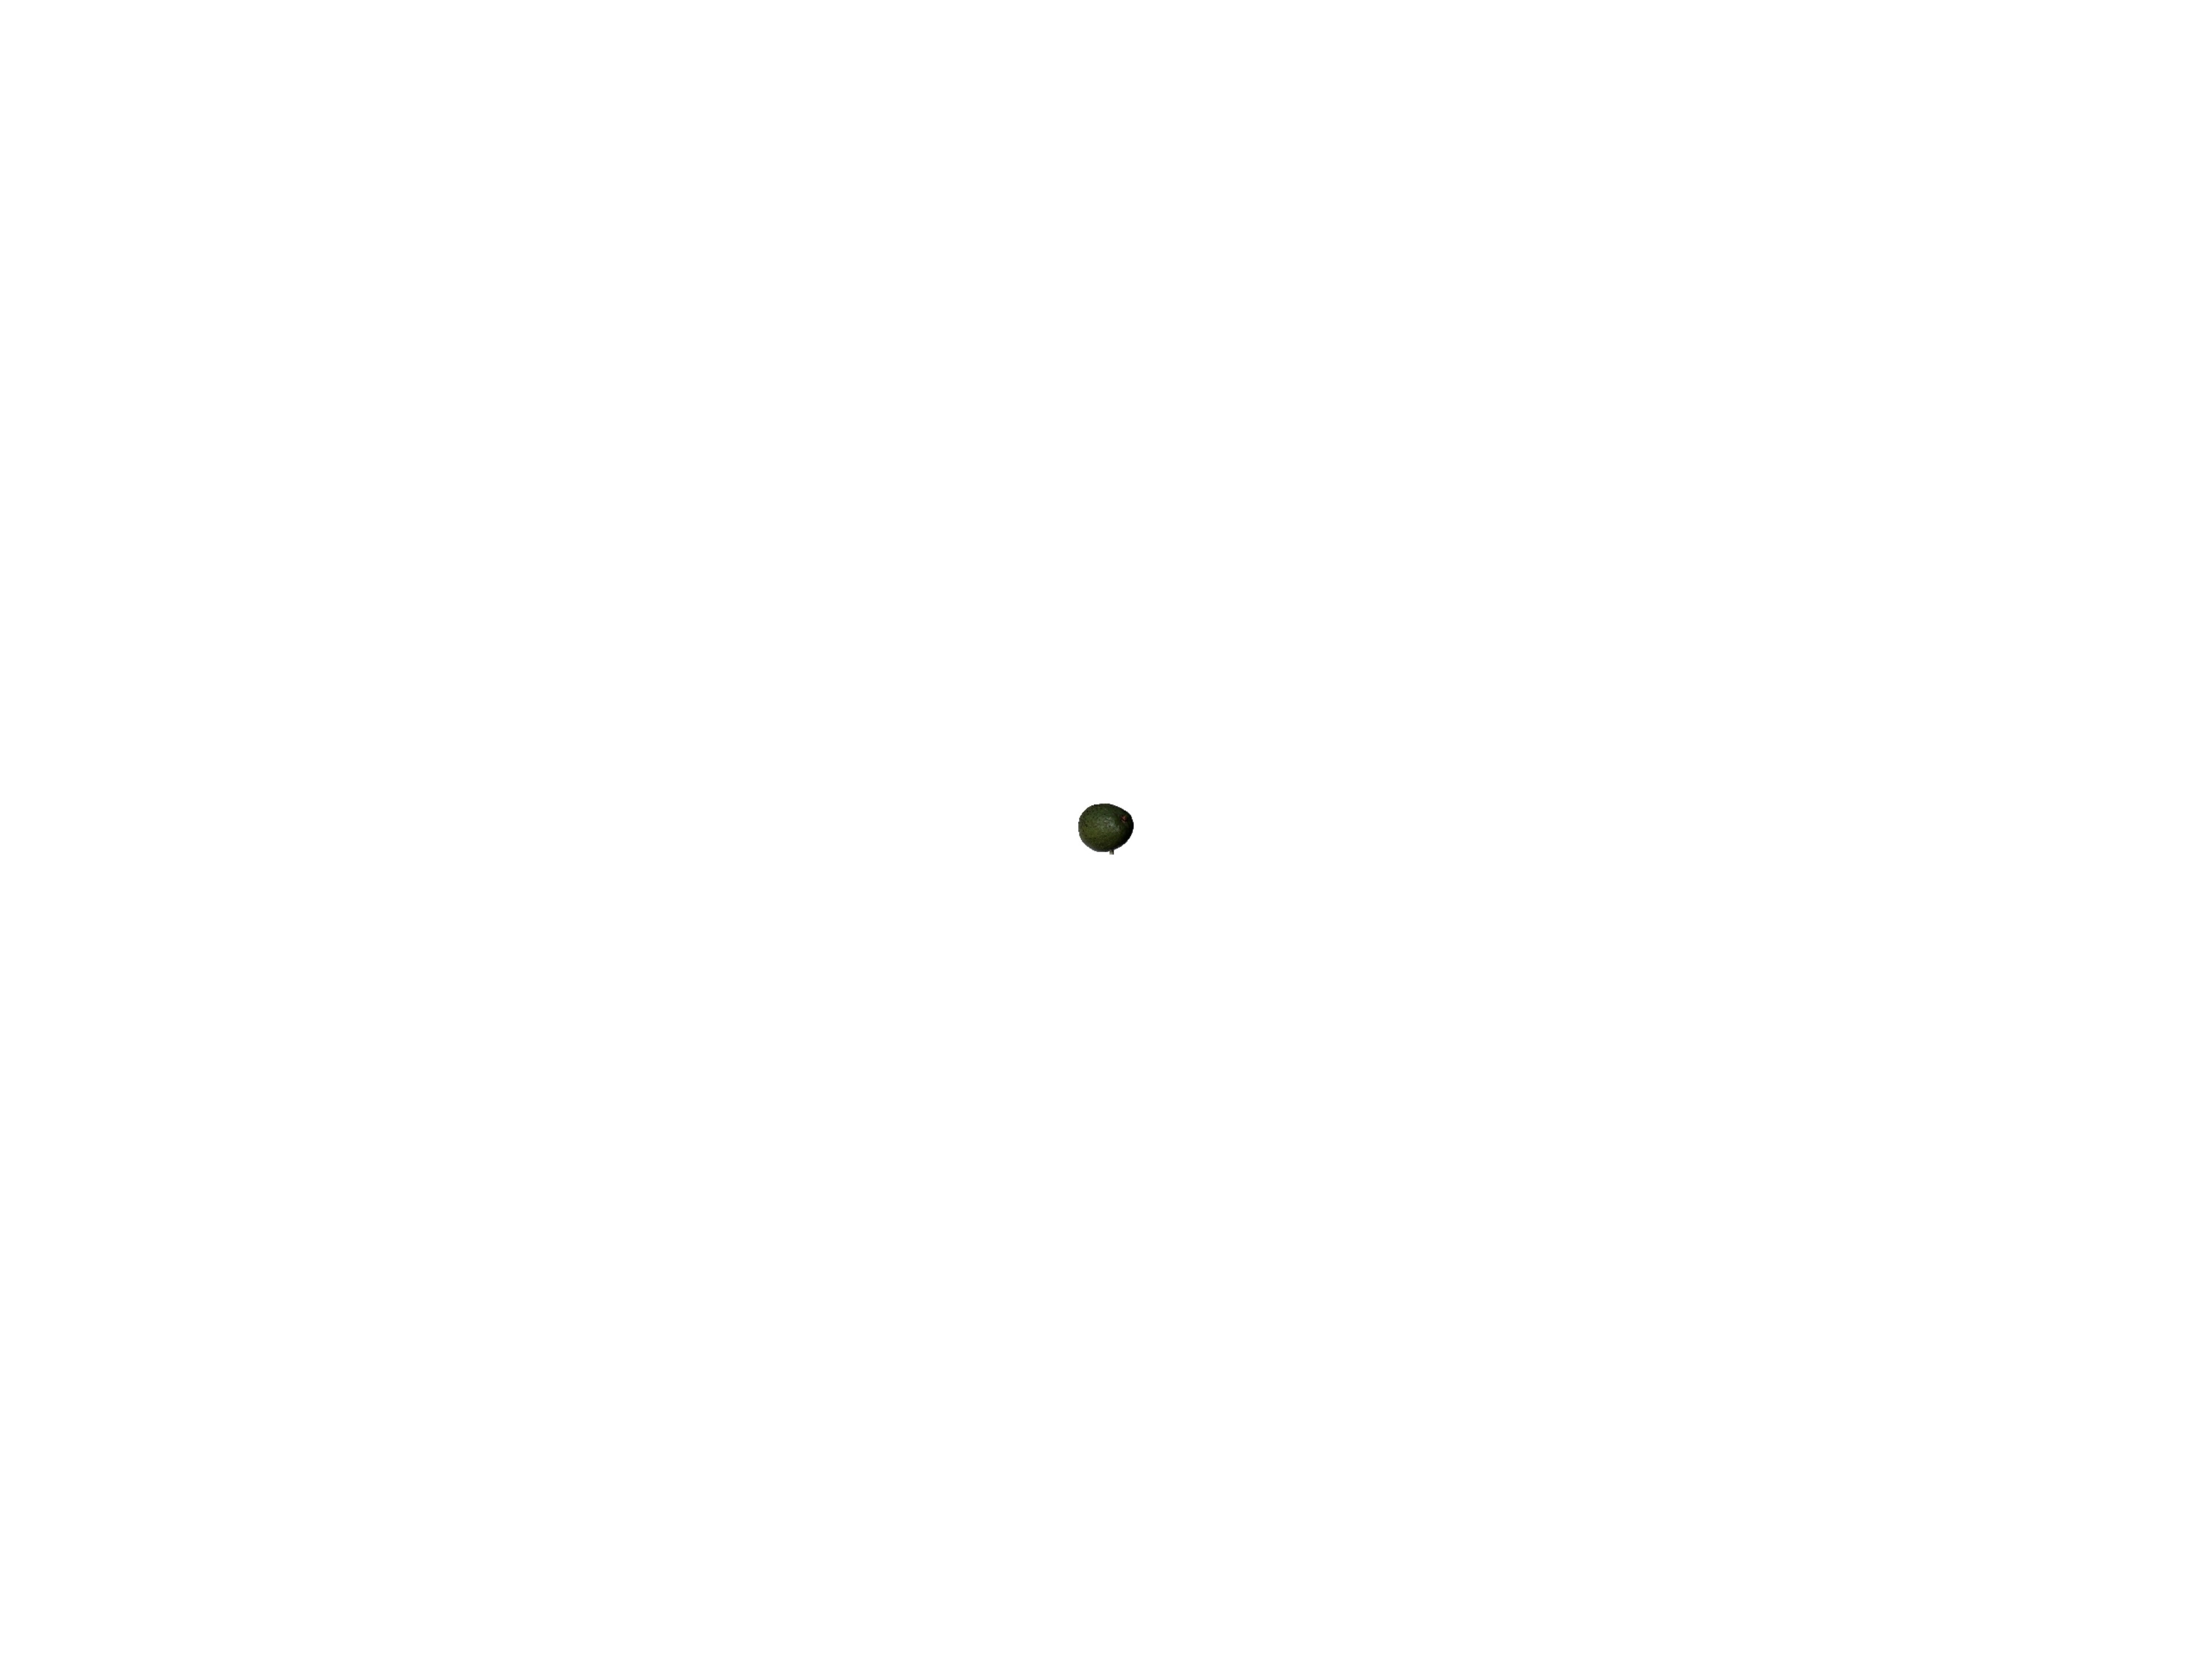abacate: (1076, 796, 1137, 854)
